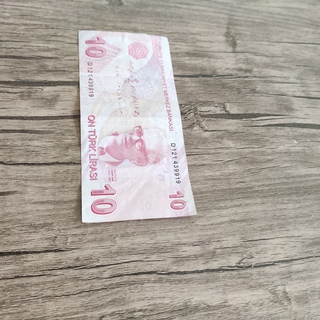10TLBack: (77, 29, 197, 224)
